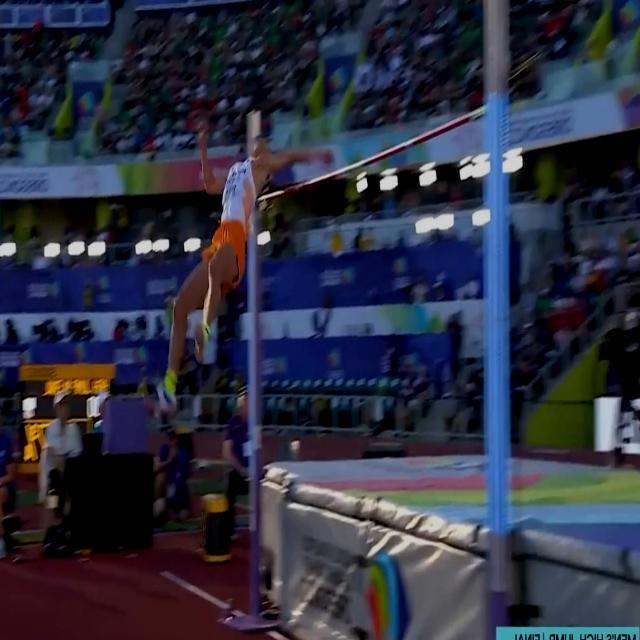jump: (141, 112, 336, 416)
